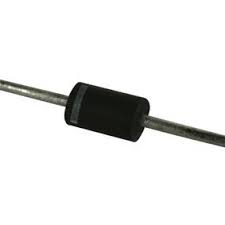diode: (30, 63, 183, 158)
